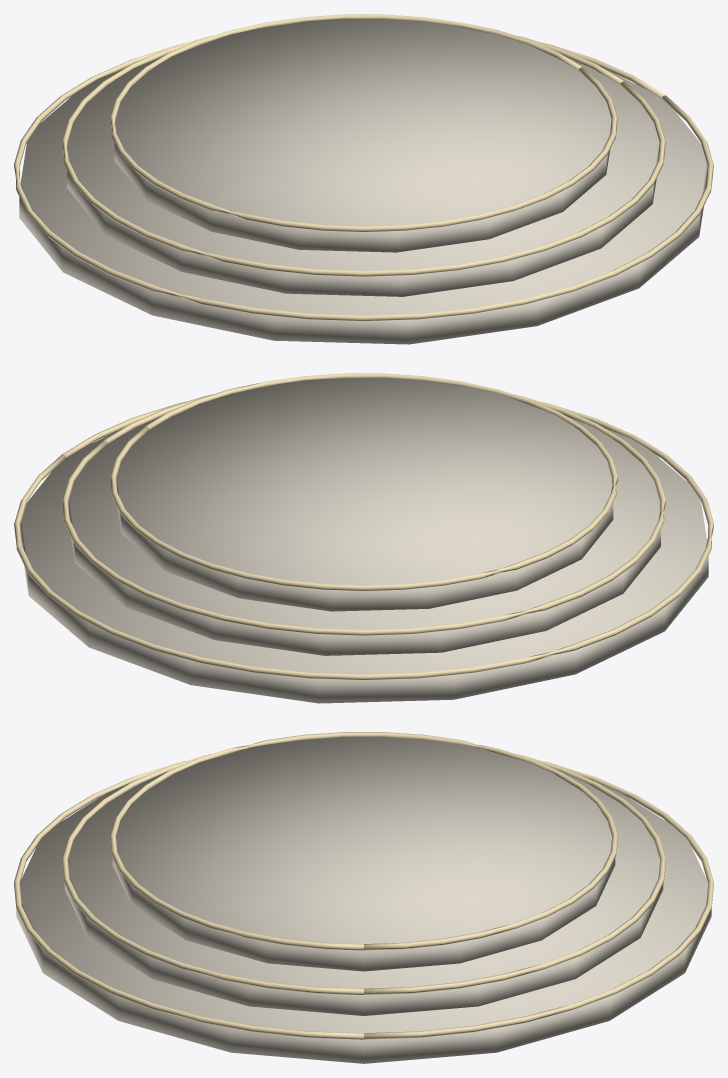
The model's file is ceremony-stage.glb.
3 views of the same model, one above another, from view 1: azimuth 30°, elevation 25°; view 2: azimuth 150°, elevation 25°; view 3: azimuth 270°, elevation 25° (orthographic).
Parts seen in each view (by area): view 1: stage-0, gold-trims-1; view 2: stage-0, gold-trims-1; view 3: stage-0, gold-trims-1.
Part boxes in pixels (x1,y1,x2,y2): stage-0: (19,18,707,344); gold-trims-1: (14,14,713,321); stage-0: (20,377,708,703); gold-trims-1: (14,373,713,680); stage-0: (16,736,711,1063); gold-trims-1: (14,732,713,1039).
Bounding box in the file's own units: 3.93 × 0.488 × 3.93.
